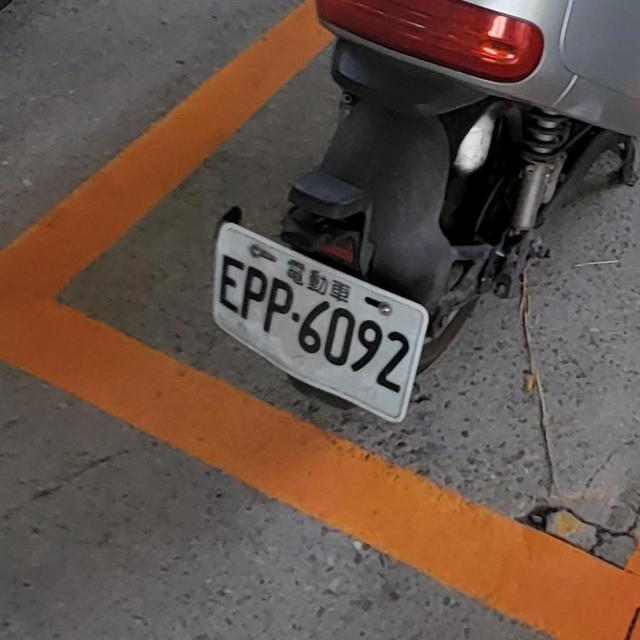W: (189, 217, 441, 428)
